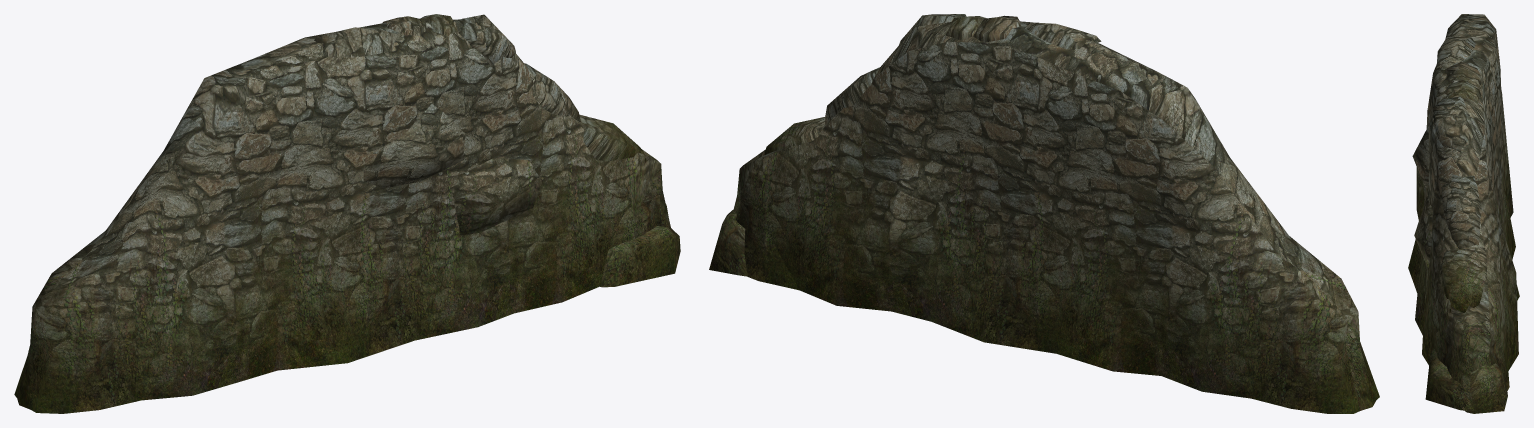
The model's file is Stonewall.FBX.
The picture shows the model from 3 angles, left to right: view 1: azimuth 30°, elevation 25°; view 2: azimuth 150°, elevation 25°; view 3: azimuth 270°, elevation 25°; orthographic projection. The views are drawn at different scales.
Parts seen in each view (by area): view 1: ASE_CM_Vill_Stonewall05_SM; view 2: ASE_CM_Vill_Stonewall05_SM; view 3: ASE_CM_Vill_Stonewall05_SM.
Boxes of the visible parts, x1,y1,x2,y2 form: ASE_CM_Vill_Stonewall05_SM: (14,14,680,413); ASE_CM_Vill_Stonewall05_SM: (709,14,1379,413); ASE_CM_Vill_Stonewall05_SM: (1408,14,1519,413).
Bounding box in the file's own units: 179 × 80.03 × 33.16.
